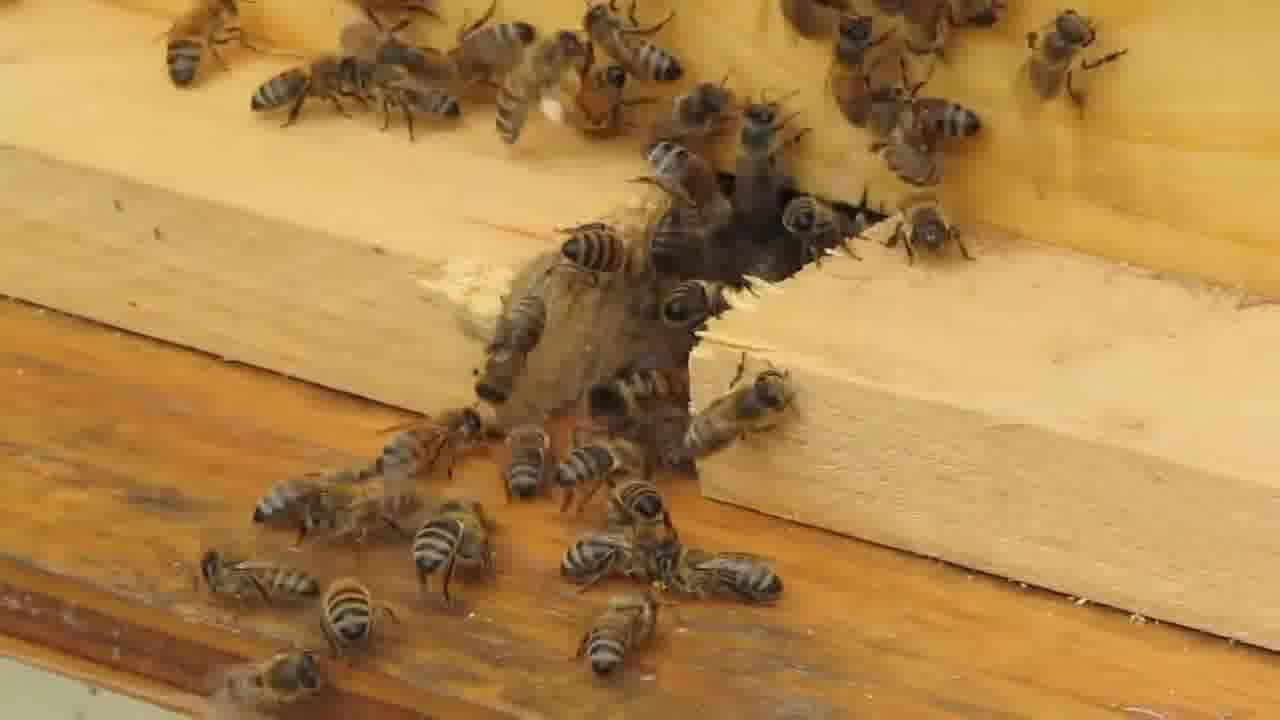pollen: (494, 37, 585, 149)
